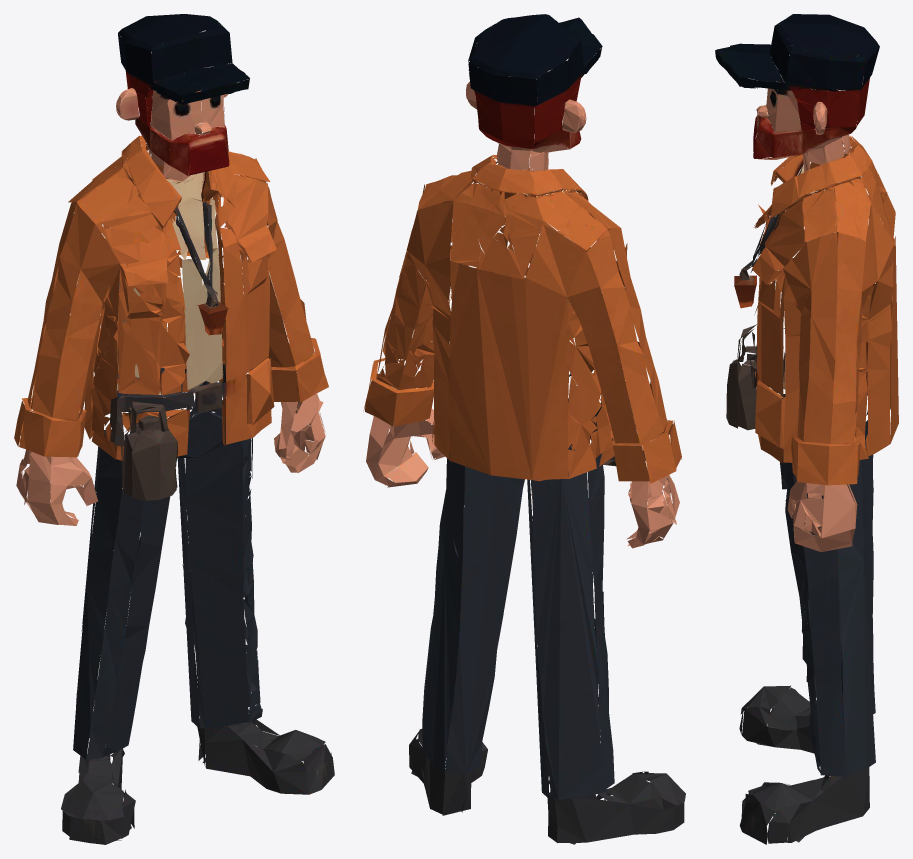
File: habitant.glb
3 renders of one model, left to right at view 1: azimuth 30°, elevation 25°; view 2: azimuth 150°, elevation 25°; view 3: azimuth 270°, elevation 25°, orthographic. The views are drawn at different scales.
Visible parts, largest first — view 1: world; view 2: world; view 3: world.
Part boxes in pixels (box(x1,y1,x2,y2)): world: box(14, 14, 334, 844); world: box(363, 14, 685, 844); world: box(715, 14, 898, 844).
Bounding box in the file's own units: 0.4142 × 1 × 0.2198.
1 material, 1 textured.
